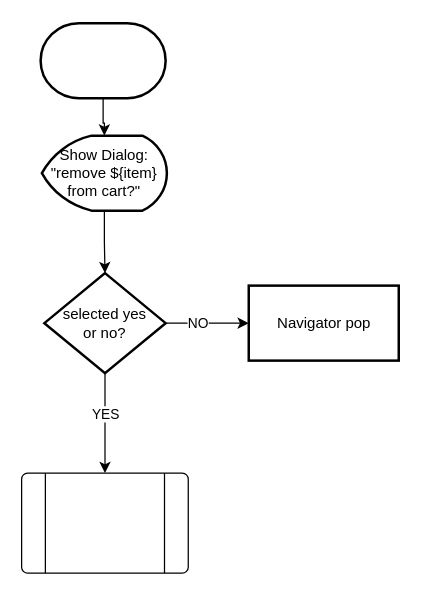
This 423x595 diagram has some shape labels left out. The shapes that lost their labels are listed below. From the top down, each one's box as (x1, y1, x2, y2) in pixels, then its label:
(39, 21, 166, 99): START
(20, 472, 188, 573): Cart Provider. removeFromCart (item)
